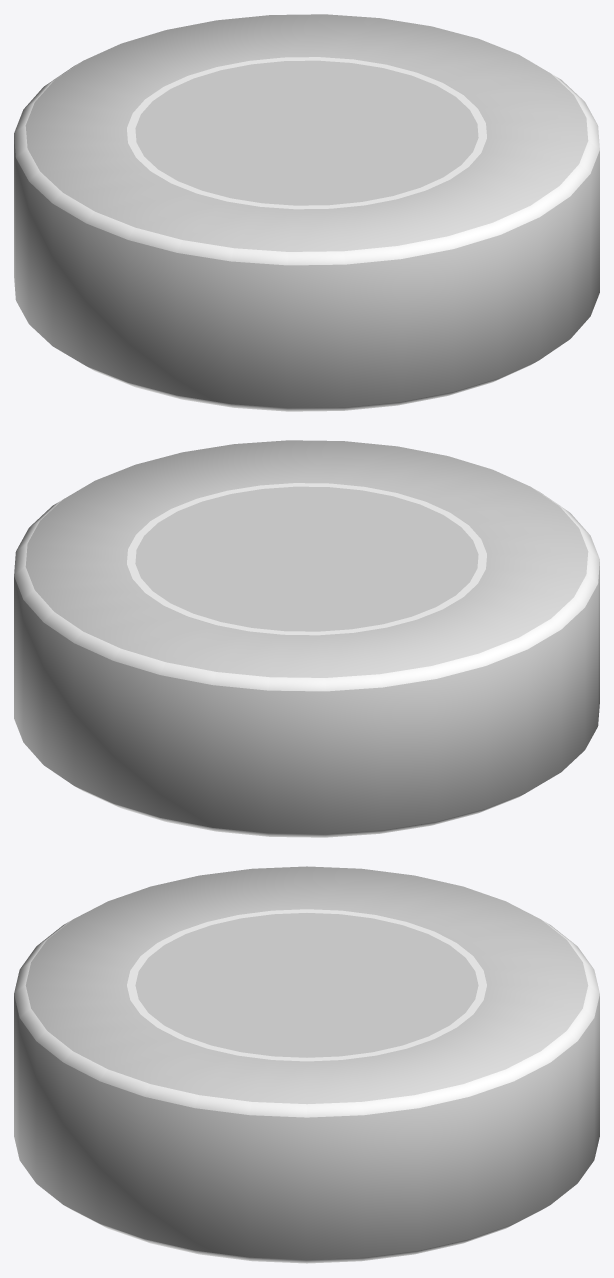
Rendered from mainHajiki.gltf.
The picture shows the model from 3 angles, top to bottom: view 1: azimuth 30°, elevation 25°; view 2: azimuth 150°, elevation 25°; view 3: azimuth 270°, elevation 25°; orthographic projection.
Visible parts, largest first — view 1: LineHajiki; view 2: LineHajiki; view 3: LineHajiki.
Boxes of the visible parts, <box> form: LineHajiki: <box>14,14,599,411</box>; LineHajiki: <box>14,440,599,837</box>; LineHajiki: <box>14,866,599,1263</box>.
Size of the model in its own units: 0.04 by 0.012 by 0.04.
Materials: 1 (1 with a texture image).
